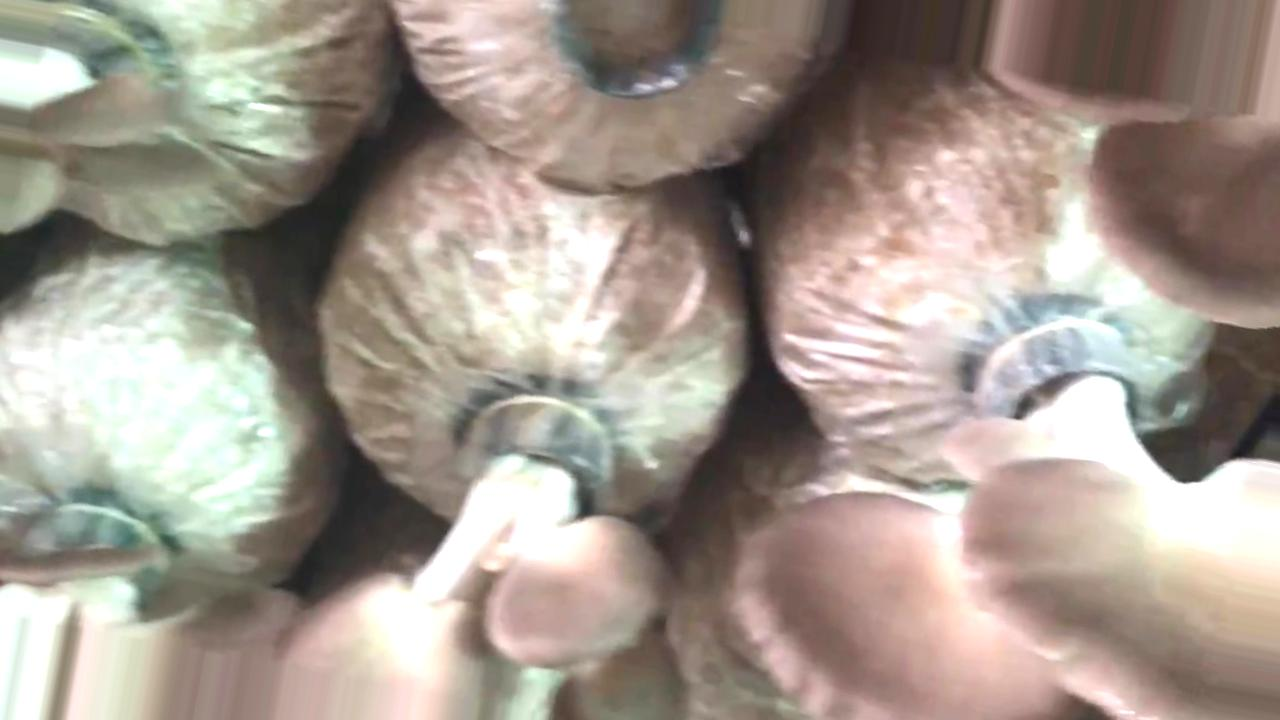nam: (731, 305, 1278, 720), (304, 392, 680, 720), (989, 1, 1274, 331)
